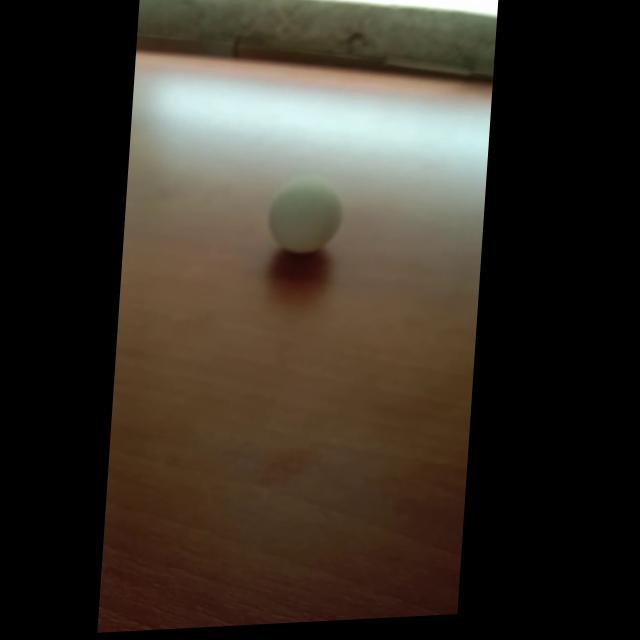white ball: (264, 176, 345, 256)
